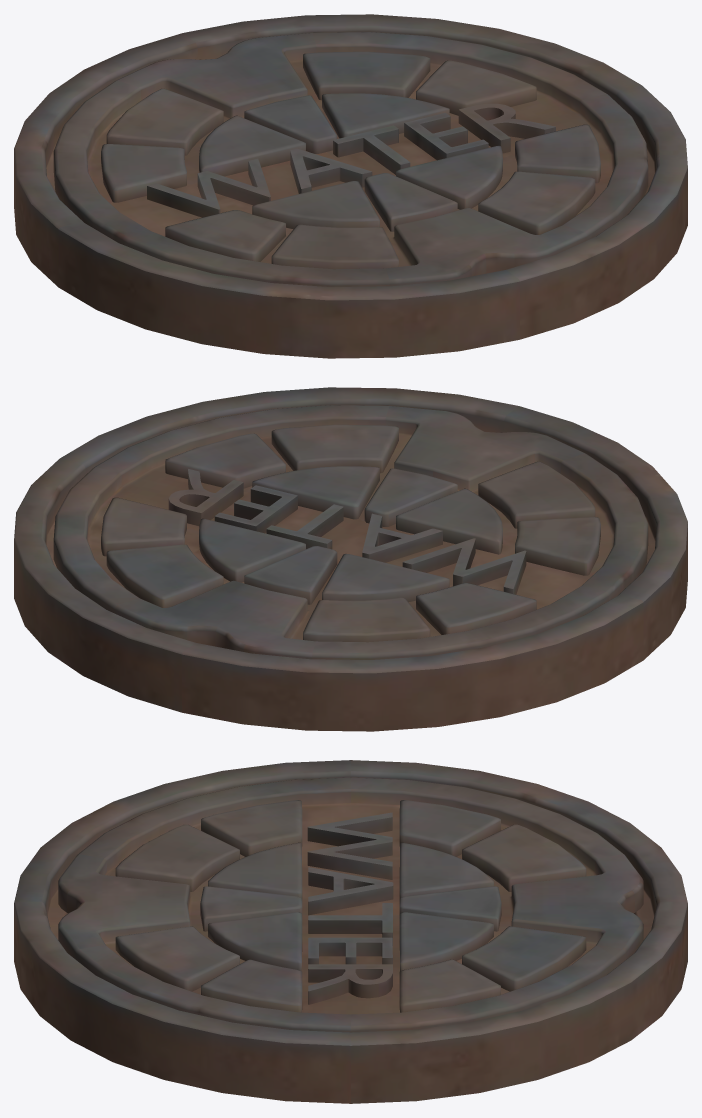
Rendered from water_manhole_cover.gltf.
The picture shows the model from 3 angles, top to bottom: view 1: azimuth 30°, elevation 25°; view 2: azimuth 150°, elevation 25°; view 3: azimuth 270°, elevation 25°; orthographic projection.
Parts seen in each view (by area): view 1: water_manhole_cover, water_manhole_cover_frame; view 2: water_manhole_cover, water_manhole_cover_frame; view 3: water_manhole_cover, water_manhole_cover_frame.
Part boxes in pixels (x1,y1,x2,y2): water_manhole_cover: (53, 32, 648, 286); water_manhole_cover_frame: (14, 14, 687, 358); water_manhole_cover: (53, 405, 648, 659); water_manhole_cover_frame: (14, 387, 687, 731); water_manhole_cover: (58, 777, 643, 1032); water_manhole_cover_frame: (14, 760, 687, 1103).
Bounding box in the file's own units: 0.6908 × 0.0676 × 0.6908.
1 material, 1 textured.
